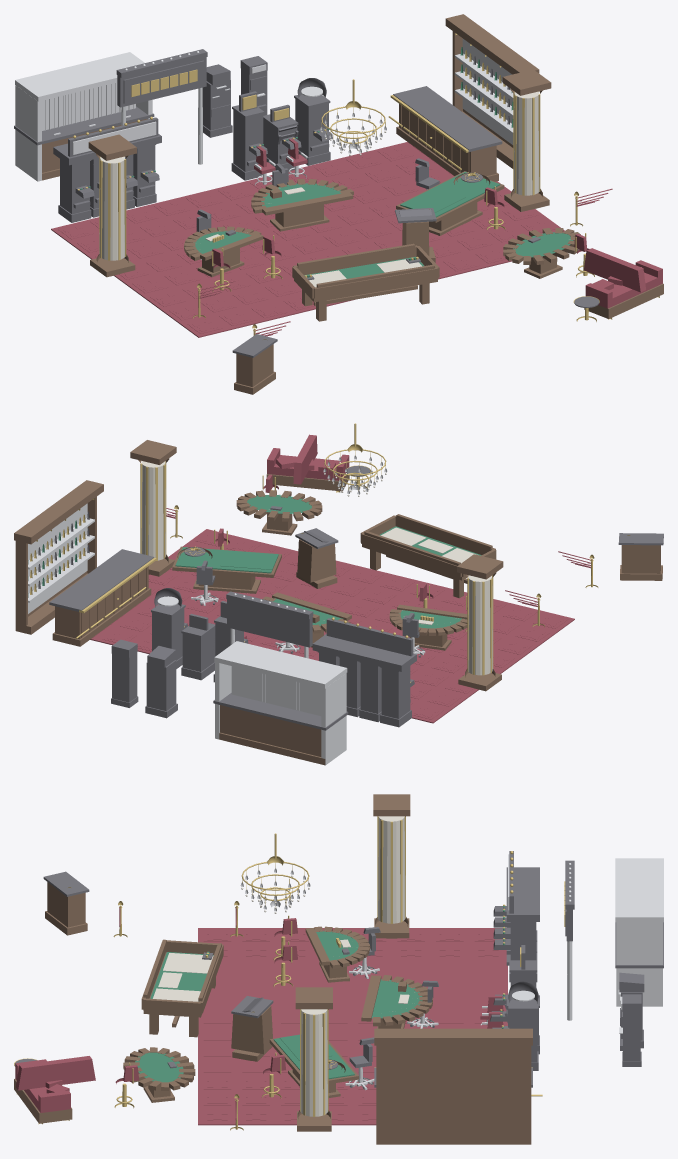
The model's file is casino-floor-and-back-rooms-gaming-floor-0a06198b-starter-scene.glb.
3 views of the same model, one above another, from view 1: azimuth 30°, elevation 25°; view 2: azimuth 150°, elevation 25°; view 3: azimuth 270°, elevation 25° (orthographic). The views are drawn at different scales.
Visible parts, largest first — view 1: 037-cashier-cage/2, 001-carpet-tile/0, 012-craps-table/0, 000-carpet-tile/0, 022-slot-bank/1, 004-carpet-tile/0, 001-carpet-tile/1, 002-carpet-tile/0, 005-carpet-tile/0, 030-back-bar/1, 030-back-bar/0, 031-lounge-sofa/1 (+47 smaller); view 2: 037-cashier-cage/2, 022-slot-bank/1, 030-back-bar/0, 012-craps-table/0, 030-back-bar/1, 037-cashier-cage/0, 003-carpet-tile/0, 001-carpet-tile/0, 029-bar-counter/0, 037-cashier-cage/3, 029-bar-counter/2, 028-jackpot-sign-board/1 (+39 smaller); view 3: 030-back-bar/0, 037-cashier-cage/2, 000-carpet-tile/0, 005-carpet-tile/0, 001-carpet-tile/0, 003-carpet-tile/0, 000-carpet-tile/1, 005-carpet-tile/1, 012-craps-table/0, 031-lounge-sofa/1, 001-carpet-tile/1, 034-casino-column/1 (+31 smaller).
Part boxes in pixels (x1,y1,x2,y2): 037-cashier-cage/2: (15,52,152,181); 001-carpet-tile/0: (124,251,315,337); 012-craps-table/0: (292,243,439,321); 000-carpet-tile/0: (51,197,252,283); 022-slot-bank/1: (60,117,159,214); 004-carpet-tile/0: (307,142,507,220); 001-carpet-tile/1: (132,254,314,333); 002-carpet-tile/0: (179,166,380,251); 005-carpet-tile/0: (381,189,564,275); 030-back-bar/1: (454,38,513,144); 030-back-bar/0: (445,14,539,168); 031-lounge-sofa/1: (584,248,662,308); 037-cashier-cage/2: (214,641,347,765); 022-slot-bank/1: (319,618,414,718); 030-back-bar/0: (14,480,103,634); 012-craps-table/0: (360,514,496,598); 030-back-bar/1: (28,503,94,613); 037-cashier-cage/0: (219,705,325,765); 003-carpet-tile/0: (282,560,451,633); 001-carpet-tile/0: (391,589,574,671); 029-bar-counter/0: (52,566,151,646); 037-cashier-cage/3: (231,666,321,715); 029-bar-counter/2: (49,549,154,611); 028-jackpot-sign-board/1: (227,599,312,647); 030-back-bar/0: (374,1028,532,1144); 037-cashier-cage/2: (615,858,663,1006); 000-carpet-tile/0: (353,928,507,993); 005-carpet-tile/0: (198,1059,352,1125); 001-carpet-tile/0: (198,928,352,993); 003-carpet-tile/0: (198,993,352,1058); 000-carpet-tile/1: (358,930,502,990); 005-carpet-tile/1: (203,1061,347,1121); 012-craps-table/0: (141,939,223,1037); 031-lounge-sofa/1: (15,1056,95,1112); 001-carpet-tile/1: (203,930,347,990); 034-casino-column/1: (300,1009,327,1116).
Size of the model in its own units: 14.43 by 5.51 by 16.79.
